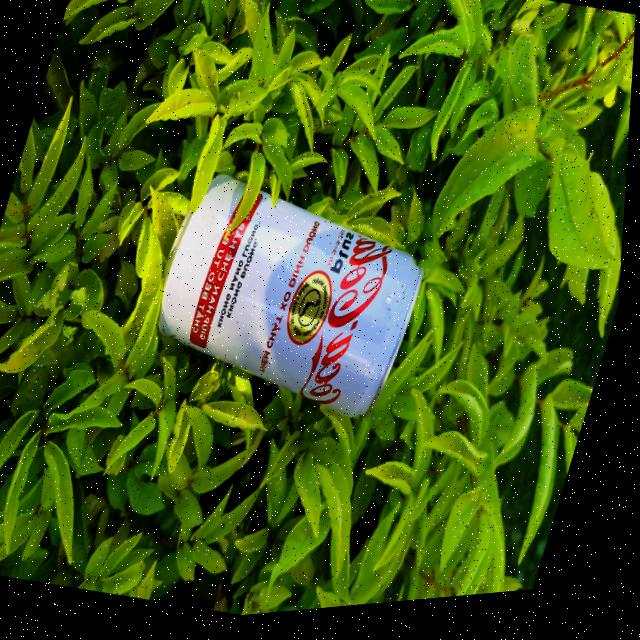Coca Cola Plus: (133, 149, 452, 450)
